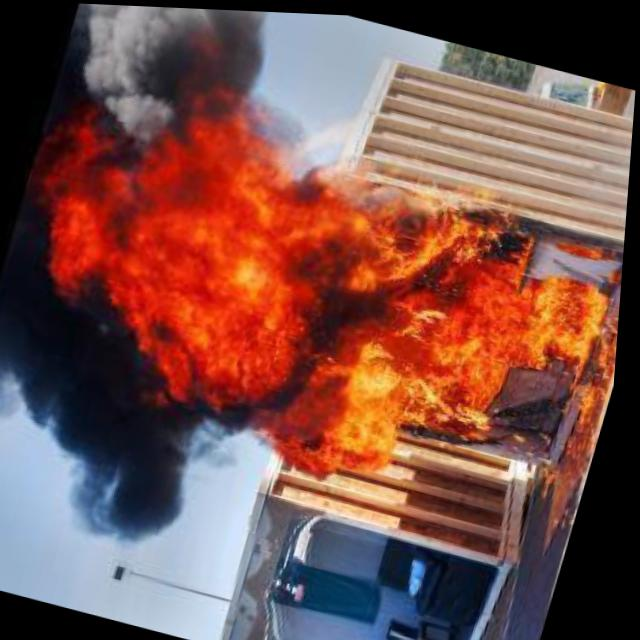Fire: (0, 81, 635, 530), (0, 347, 225, 564), (49, 2, 291, 140)
